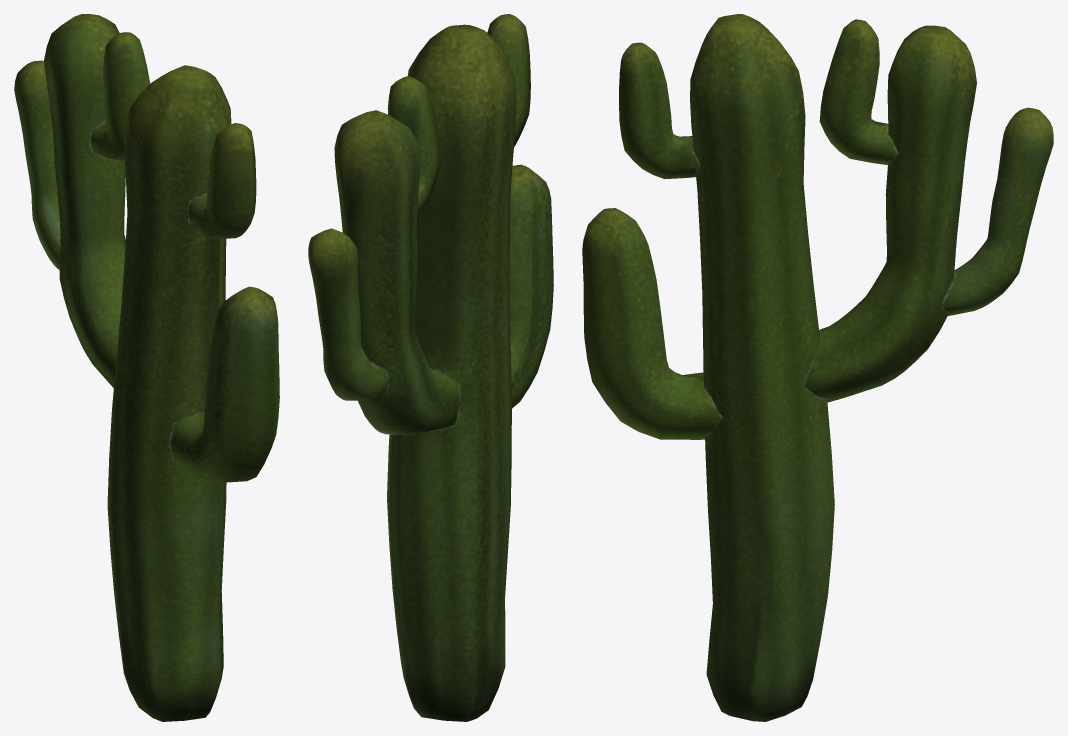
Rendered from cactus 3.fbx.
3 views of the same model, side by side, from view 1: azimuth 30°, elevation 25°; view 2: azimuth 150°, elevation 25°; view 3: azimuth 270°, elevation 25° (orthographic). The views are drawn at different scales.
Parts seen in each view (by area): view 1: ClassicDillCactus; view 2: ClassicDillCactus; view 3: ClassicDillCactus.
Boxes of the visible parts, box(x1,y1,x2,y2) form: ClassicDillCactus: box(14, 14, 279, 721); ClassicDillCactus: box(308, 14, 553, 721); ClassicDillCactus: box(582, 14, 1053, 721).
Bounding box in the file's own units: 0.8912 × 5.35 × 3.33.
1 material, 1 textured.
